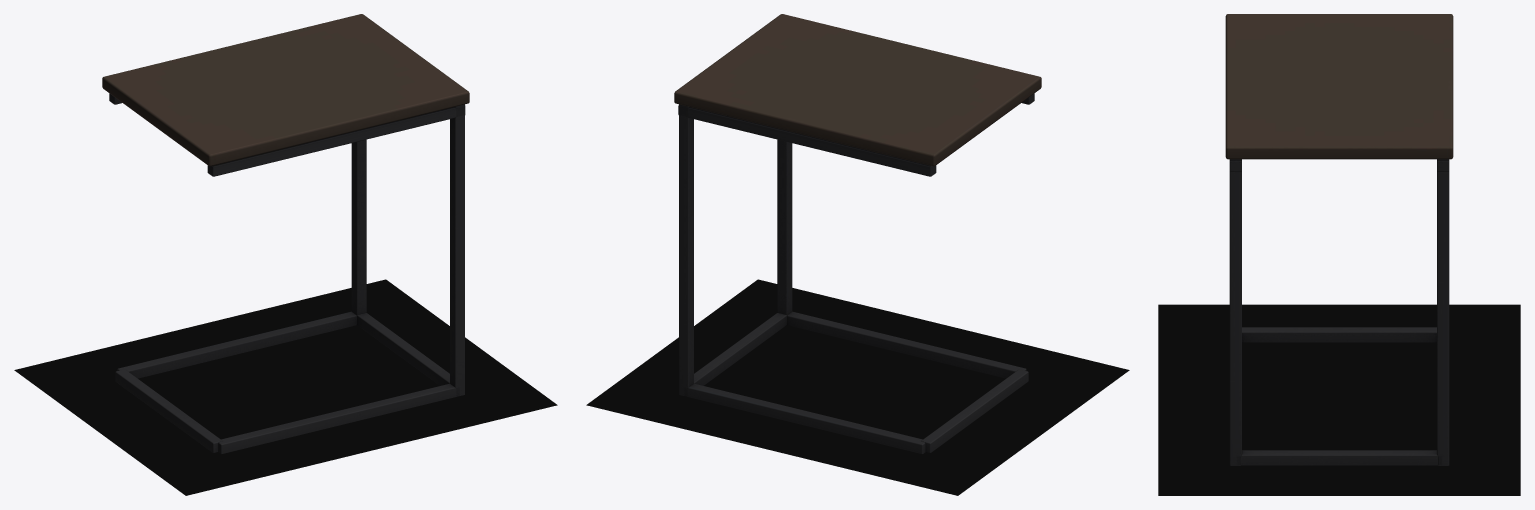
Rendered from c-table.glb.
The picture shows the model from 3 angles, left to right: view 1: azimuth 30°, elevation 25°; view 2: azimuth 150°, elevation 25°; view 3: azimuth 270°, elevation 25°; orthographic projection. The views are drawn at different scales.
Parts seen in each view (by area): view 1: living_room__Sofa side table__mesh, living_room__Sofa side table__shadow; view 2: living_room__Sofa side table__mesh, living_room__Sofa side table__shadow; view 3: living_room__Sofa side table__shadow, living_room__Sofa side table__mesh.
Part boxes in pixels (box(x1,y1,x2,y2)): living_room__Sofa side table__mesh: box(102, 14, 469, 453); living_room__Sofa side table__shadow: box(14, 279, 557, 495); living_room__Sofa side table__mesh: box(674, 14, 1041, 453); living_room__Sofa side table__shadow: box(586, 279, 1129, 495); living_room__Sofa side table__shadow: box(1158, 304, 1520, 495); living_room__Sofa side table__mesh: box(1225, 14, 1453, 465).
Bounding box in the file's own units: 0.8052 × 0.63 × 0.6446.
2 materials, 2 textured.
